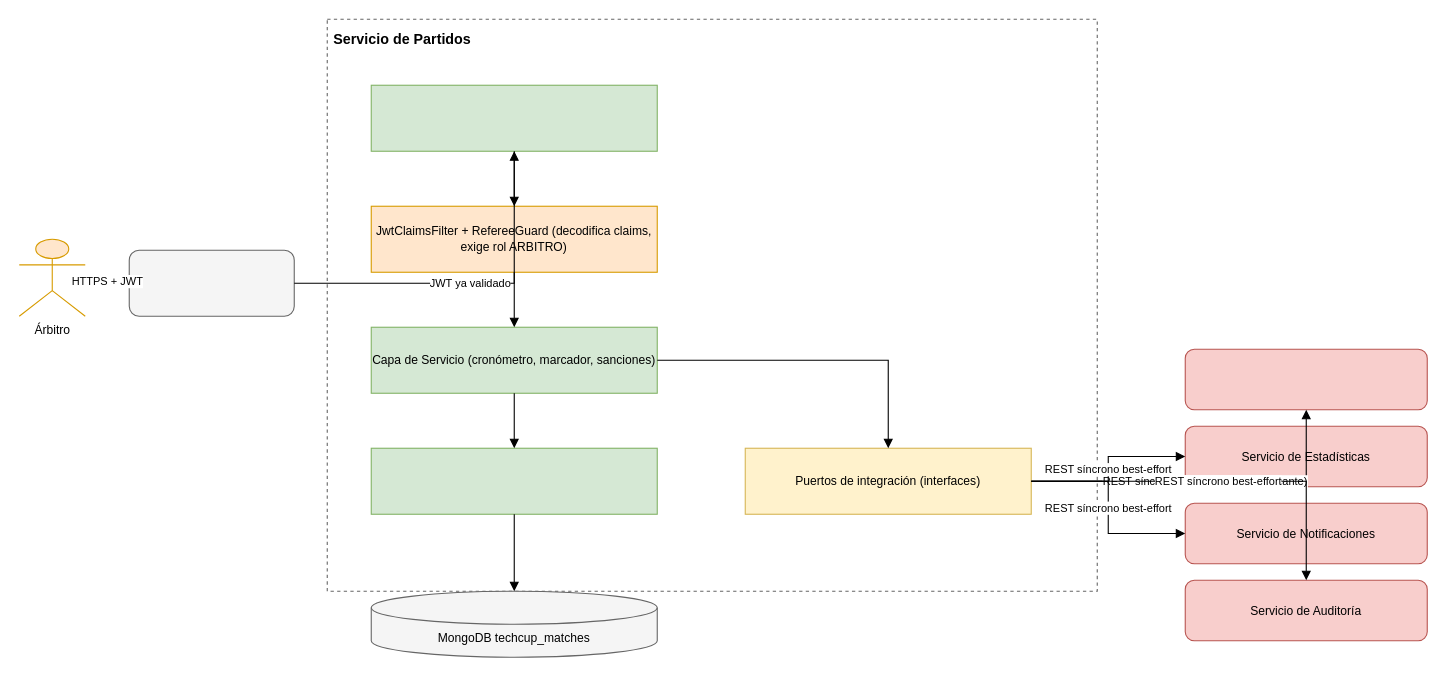
The diagram is 1447 pixels wide and 677 high, and some of its shapes have lost their labels. The shapes that lost their labels are listed below. From the top down, each one's box as (x1, y1, x2, y2) in pixels, then its label:
(370, 84, 657, 151): Controllers REST (match / goal / card / substitution / observation / sheet)
(128, 249, 294, 316): API Gateway (valida firma y expiración del JWT)
(1184, 348, 1427, 410): Servicio de Competencia
(370, 447, 657, 514): Repositorios MongoDB
